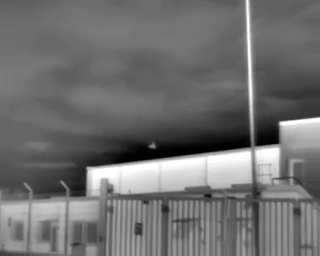HELICOPTER: (145, 138, 161, 153)
